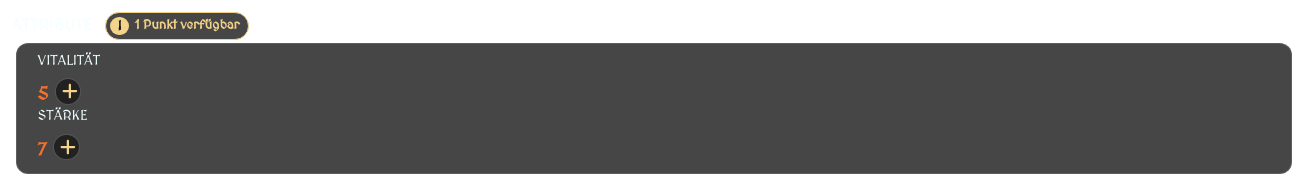
Test: distributes one point and immediately updates the value and notice
Later steps or results of the test are not shown.
Expected: the message shows "1 Punkt verfügbar", [105,12,249,40]
Click the button named "Stärke um 1 erhöhen": (66, 147) [53,134,80,160]
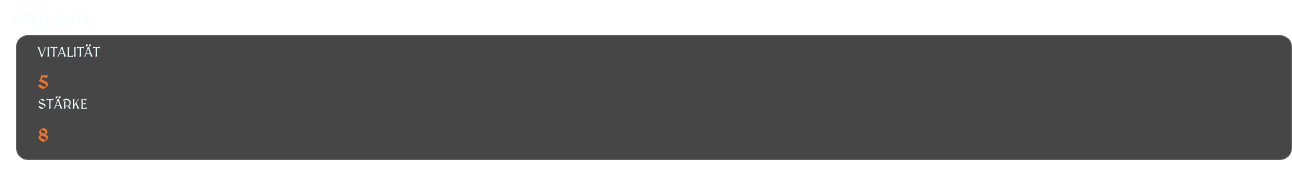
Expected: the message "! 1 Punkt verfügbar" is gone
